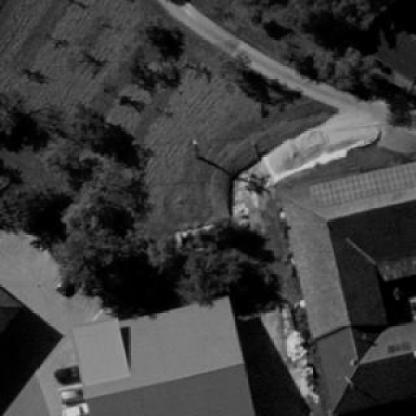solar-pv-panel: (309, 161, 416, 211), (387, 340, 410, 355)
